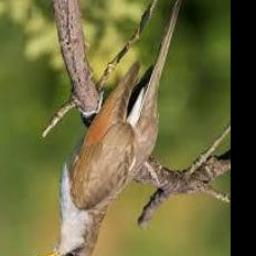Cuckoo: (33, 0, 183, 256)
